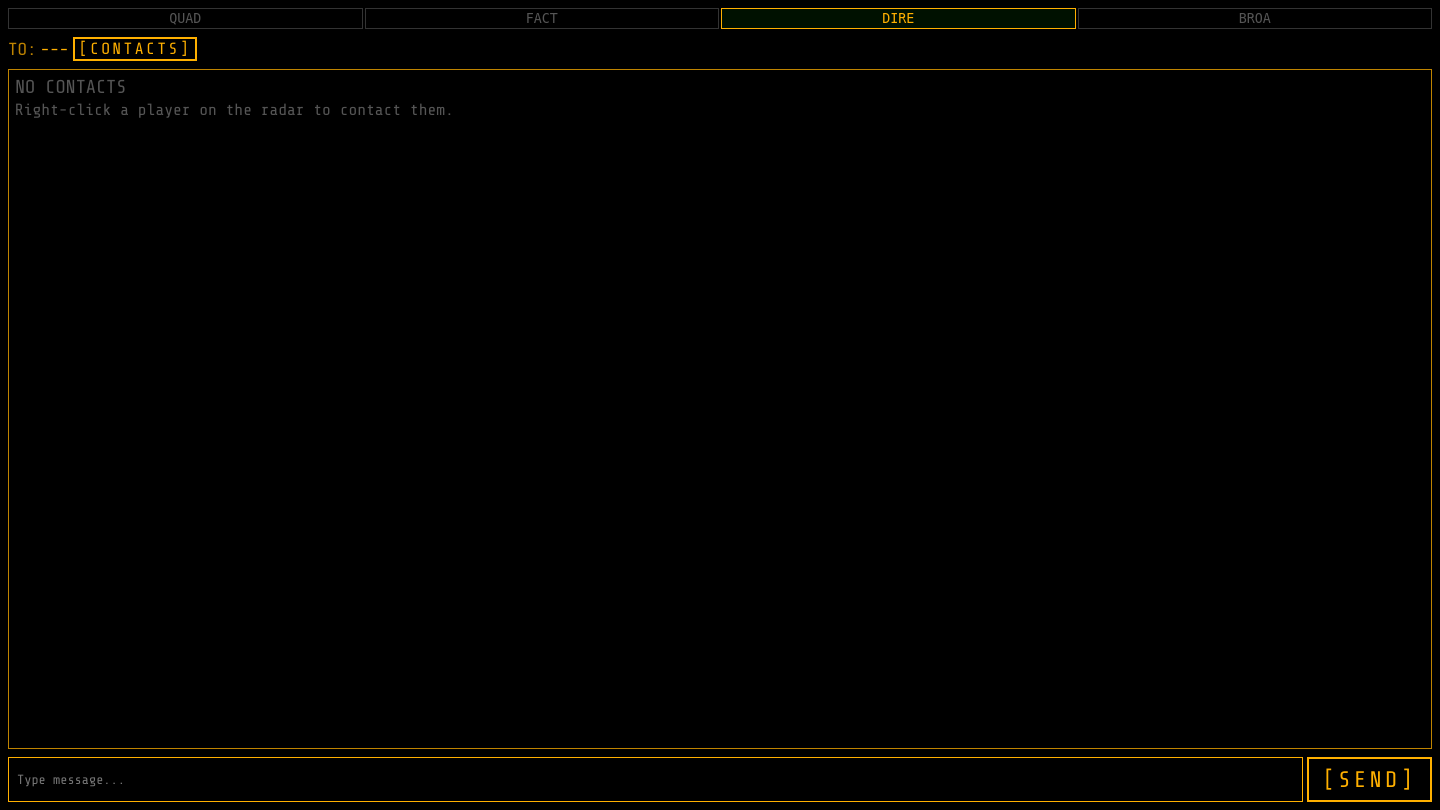
Scenario: CommsScreen › address book (direct channel) › shows NO RECENT CONTACTS when list is empty
Step 1. Click the button "[CONTACTS]" → (135, 49), box top-left (73, 37), bottom-right (197, 61)
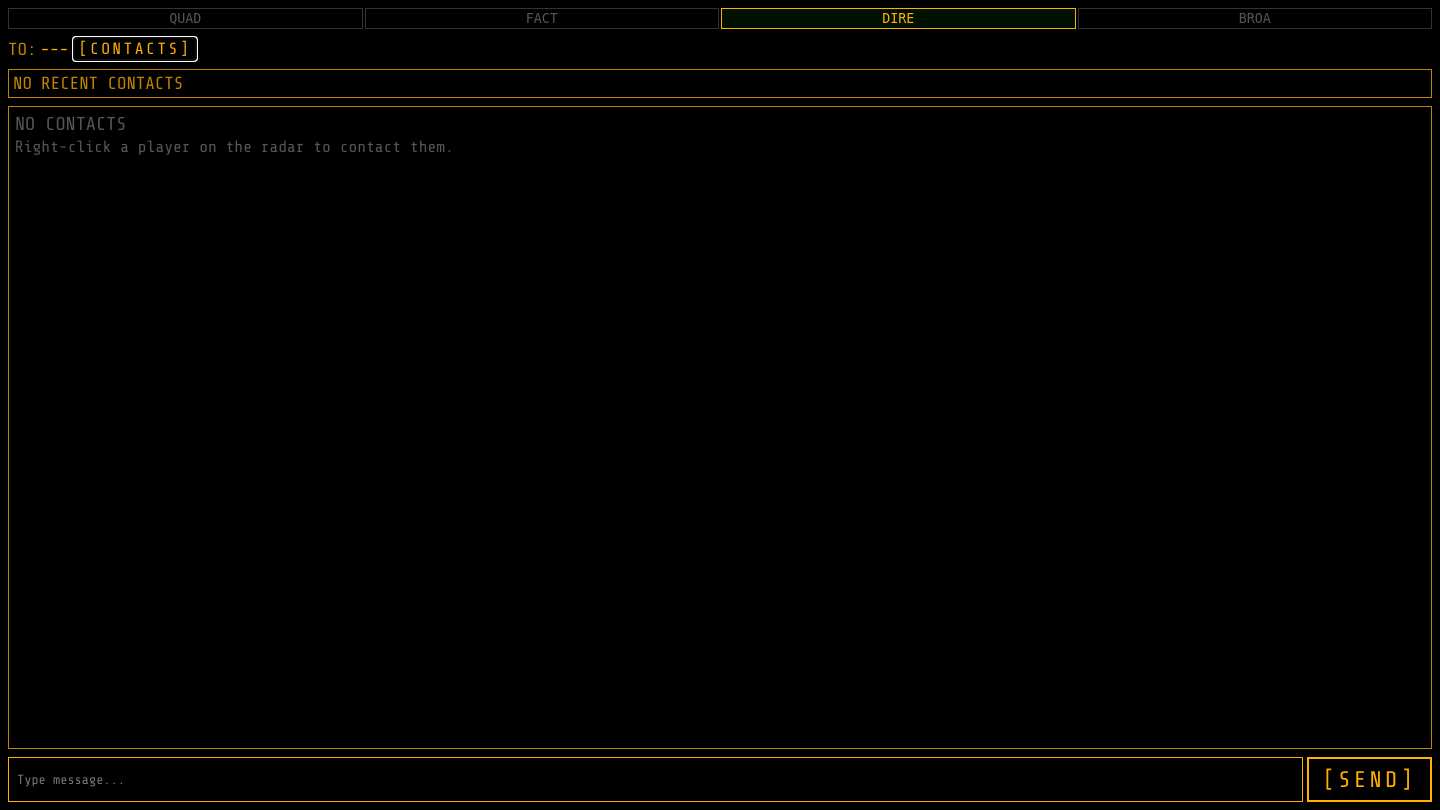
Expected: the text "NO RECENT CONTACTS" is shown, top-left (13, 74), bottom-right (183, 93)
